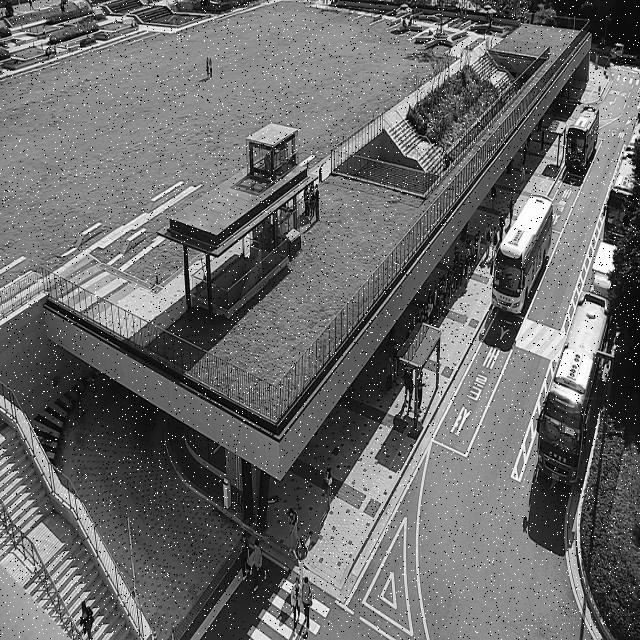queue: (413, 226, 483, 430)
